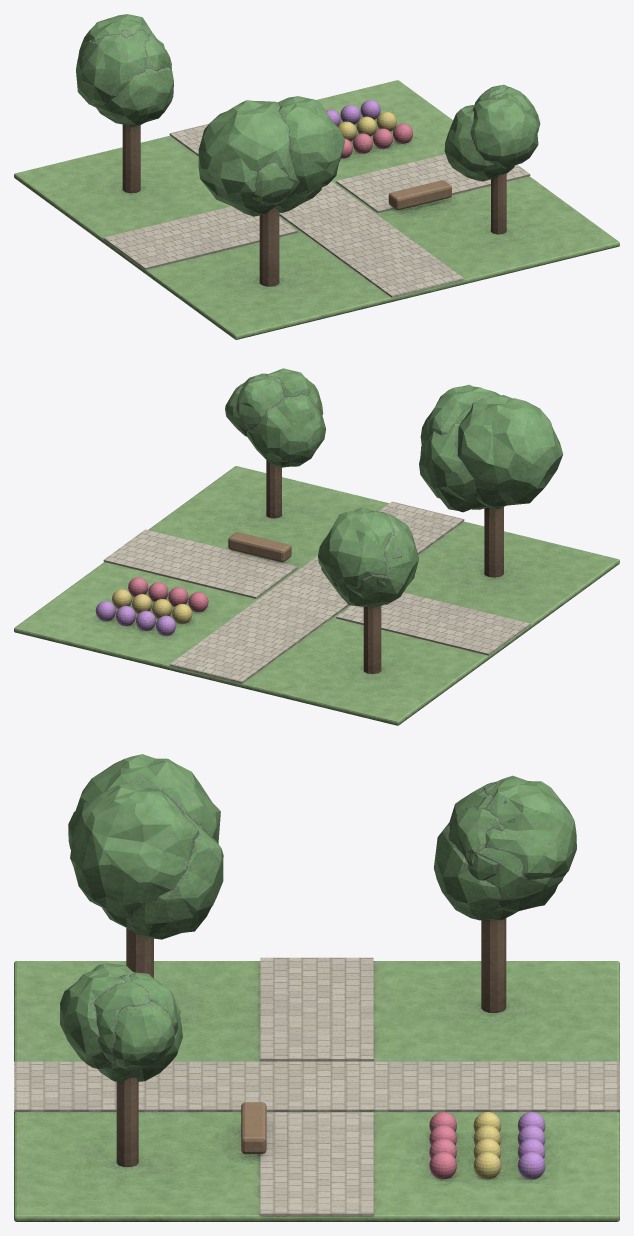
File: park.glb
3 views of the same model, one above another, from view 1: azimuth 30°, elevation 25°; view 2: azimuth 150°, elevation 25°; view 3: azimuth 270°, elevation 25° (orthographic). The views are drawn at different scales.
Visible parts, largest first — view 1: park; view 2: park; view 3: park.
Boxes of the visible parts, bbox=[...] form: park: bbox=[14, 14, 619, 339]; park: bbox=[14, 368, 619, 725]; park: bbox=[14, 754, 619, 1221].
Bounding box in the file's own units: 0.96 × 0.4368 × 0.96.
1 material, 1 textured.
